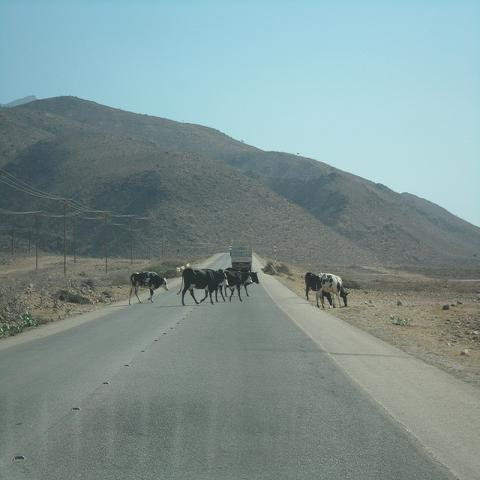truck: (229, 235, 253, 272)
